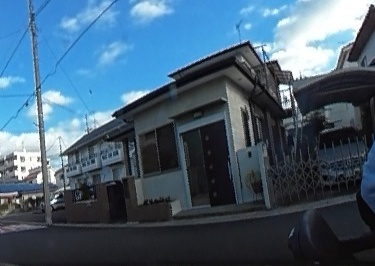person: (357, 19, 375, 248)
